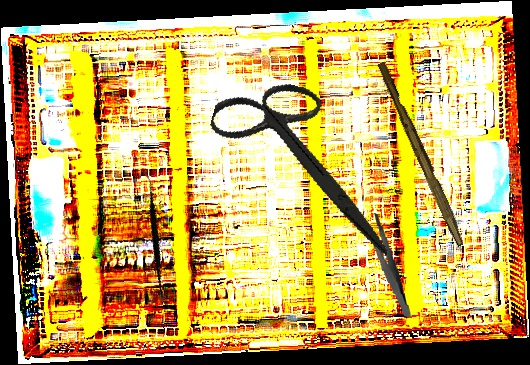Dressing Forceps: (365, 210, 412, 321)
Iris Scissors: (189, 67, 423, 256)
Scalpel Handle: (373, 60, 470, 248)
Spatula Surgical: (91, 169, 223, 310)
